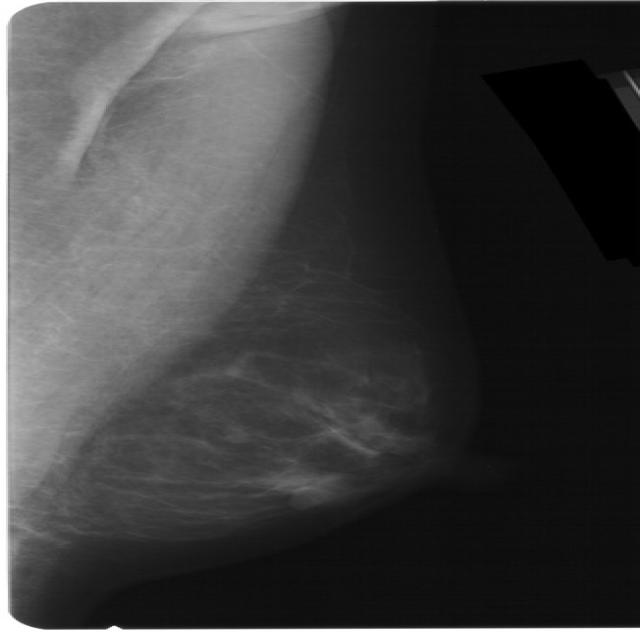tumour: (259, 466, 340, 499)
